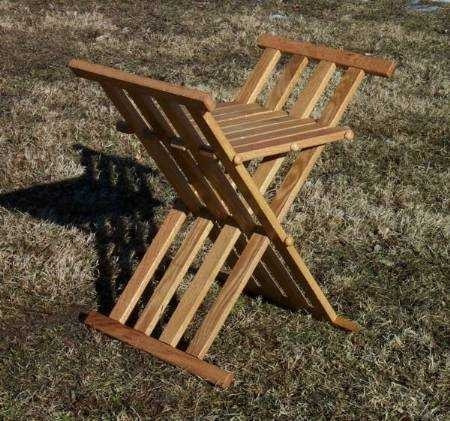obstacle: (69, 34, 395, 386)
